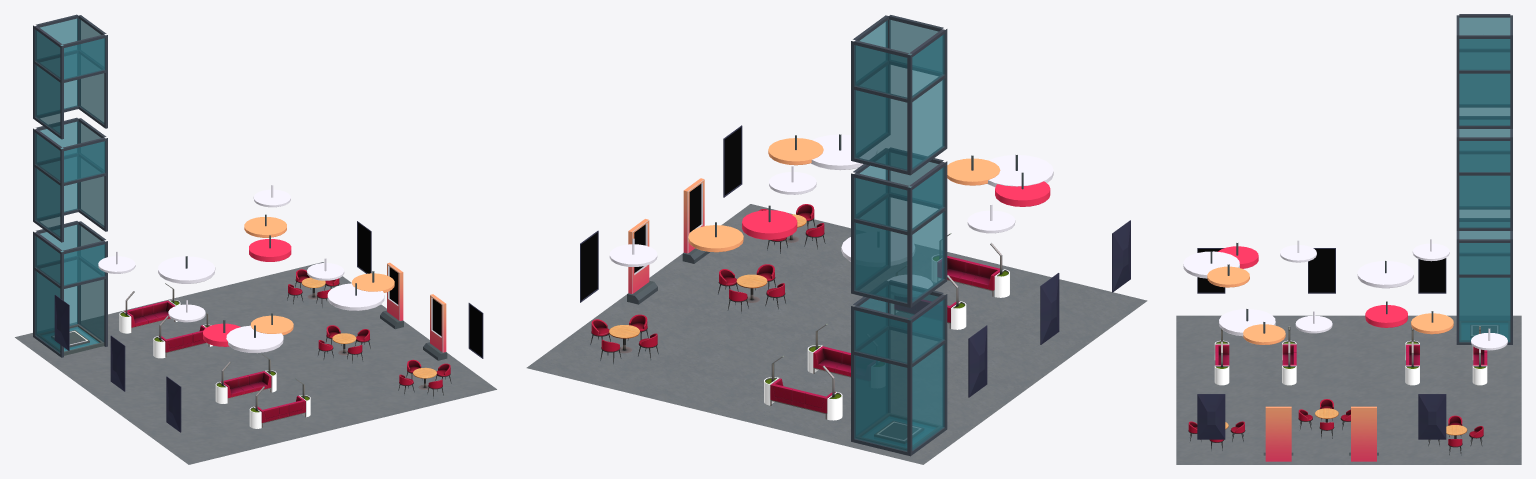
Rendered from TeachingCommunityInteriorTeachingRoomLobby.glb.
3 views of the same model, side by side, from view 1: azimuth 30°, elevation 25°; view 2: azimuth 150°, elevation 25°; view 3: azimuth 270°, elevation 25° (orthographic). The views are drawn at different scales.
Visible parts, largest first — view 1: TCV_TeachingRoomFloor, TCV_LiftGlass, TCV_LiftFrames, TCV_WelcomeZoneRoofArt1, TCV_TeachingRoomLobbySofa06, TCV_WelcomeZoneRoofLights1, TCV_TeachingRoomLobbySofa07, TCV_TeachingRoomLobbyWhatsOnScreen5, TCV_TeachingRoomLobbyOnScreen4, TCV_TeachingRoomLobbyChairTable6, TCV_Lift, TCV_TeachingRoomLobbyChairTable4 (+6 smaller); view 2: TCV_TeachingRoomFloor, TCV_LiftGlass, TCV_LiftFrames, TCV_WelcomeZoneRoofArt1, TCV_WelcomeZoneRoofLights1, TCV_TeachingRoomLobbySofa07, TCV_TeachingRoomLobbySofa06, TCV_Lift, TCV_TeachingRoomLobbyChairTable5, TCV_TeachingRoomLobbyChairTable6, TCV_TeachingRoomLobbyWhatsOnScreen5, TCV_TeachingRoomLobbyOnScreen4 (+6 smaller); view 3: TCV_TeachingRoomFloor, TCV_LiftGlass, TCV_WelcomeZoneRoofArt1, TCV_LiftFrames, TCV_WelcomeZoneRoofLights1, TCV_TeachingRoomLobbyWhatsOnScreen5, TCV_TeachingRoomLobbyOnScreen4, TCV_TeachingRoomLobbySofa06, TCV_TeachingRoomLobbyScreen2, TCV_TeachingRoomLobbyScreen3, TCV_TeachingRoomLobbySofa07, TCV_TeachingRoomLobbyScreen6 (+6 smaller).
Part boxes in pixels (x1=…): TCV_TeachingRoomFloor: x1=15, y1=262, x2=496, y2=464; TCV_LiftGlass: x1=35, y1=18, x2=105, y2=352; TCV_LiftFrames: x1=33, y1=14, x2=107, y2=357; TCV_WelcomeZoneRoofArt1: x1=158, y1=214, x2=394, y2=353; TCV_TeachingRoomLobbySofa06: x1=215, y1=353, x2=310, y2=428; TCV_WelcomeZoneRoofLights1: x1=98, y1=185, x2=344, y2=322; TCV_TeachingRoomLobbySofa07: x1=119, y1=283, x2=212, y2=358; TCV_TeachingRoomLobbyWhatsOnScreen5: x1=423, y1=294, x2=447, y2=360; TCV_TeachingRoomLobbyOnScreen4: x1=380, y1=262, x2=403, y2=329; TCV_TeachingRoomLobbyChairTable6: x1=318, y1=325, x2=370, y2=363; TCV_Lift: x1=37, y1=324, x2=104, y2=355; TCV_TeachingRoomLobbyChairTable4: x1=398, y1=359, x2=451, y2=398; TCV_TeachingRoomFloor: x1=526, y1=204, x2=1147, y2=464; TCV_LiftGlass: x1=854, y1=20, x2=944, y2=451; TCV_LiftFrames: x1=851, y1=15, x2=947, y2=456; TCV_WelcomeZoneRoofArt1: x1=688, y1=134, x2=1053, y2=265; TCV_WelcomeZoneRoofLights1: x1=609, y1=166, x2=1015, y2=288; TCV_TeachingRoomLobbySofa07: x1=764, y1=323, x2=850, y2=420; TCV_TeachingRoomLobbySofa06: x1=891, y1=233, x2=1009, y2=329; TCV_Lift: x1=856, y1=413, x2=941, y2=449; TCV_TeachingRoomLobbyChairTable5: x1=590, y1=314, x2=658, y2=364; TCV_TeachingRoomLobbyChairTable6: x1=718, y1=264, x2=786, y2=313; TCV_TeachingRoomLobbyWhatsOnScreen5: x1=682, y1=178, x2=709, y2=263; TCV_TeachingRoomLobbyOnScreen4: x1=627, y1=219, x2=657, y2=304; TCV_TeachingRoomFloor: x1=1176, y1=315, x2=1521, y2=464; TCV_LiftGlass: x1=1459, y1=17, x2=1510, y2=342; TCV_WelcomeZoneRoofArt1: x1=1183, y1=243, x2=1453, y2=344; TCV_LiftFrames: x1=1456, y1=14, x2=1512, y2=344; TCV_WelcomeZoneRoofLights1: x1=1280, y1=239, x2=1507, y2=350; TCV_TeachingRoomLobbyWhatsOnScreen5: x1=1263, y1=406, x2=1293, y2=461; TCV_TeachingRoomLobbyOnScreen4: x1=1349, y1=406, x2=1378, y2=461; TCV_TeachingRoomLobbySofa06: x1=1214, y1=326, x2=1296, y2=385; TCV_TeachingRoomLobbyScreen2: x1=1418, y1=394, x2=1446, y2=439; TCV_TeachingRoomLobbyScreen3: x1=1197, y1=394, x2=1225, y2=439; TCV_TeachingRoomLobbySofa07: x1=1405, y1=326, x2=1487, y2=385; TCV_TeachingRoomLobbyScreen6: x1=1308, y1=248, x2=1335, y2=293.
Size of what is drawn, in the model's own units: 19.14 by 18.45 by 18.69.
6 materials, 5 textured.
